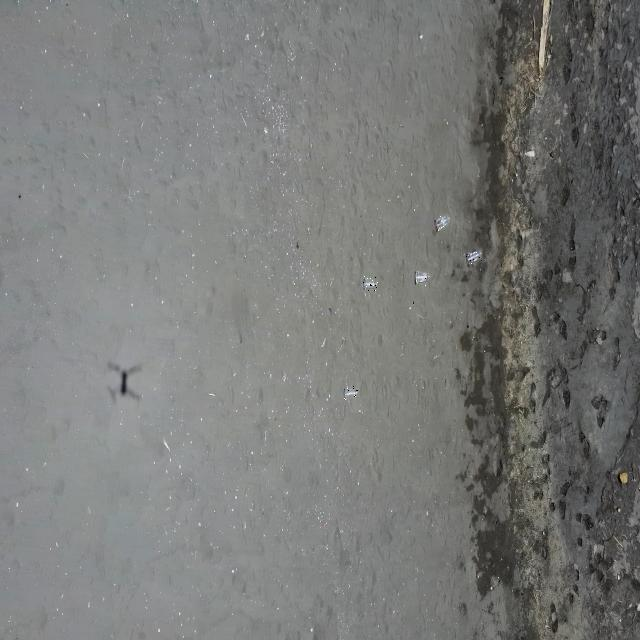takeaway-cup: (465, 250, 482, 266), (414, 269, 430, 286), (435, 215, 450, 233), (344, 385, 359, 403), (363, 276, 378, 293)
